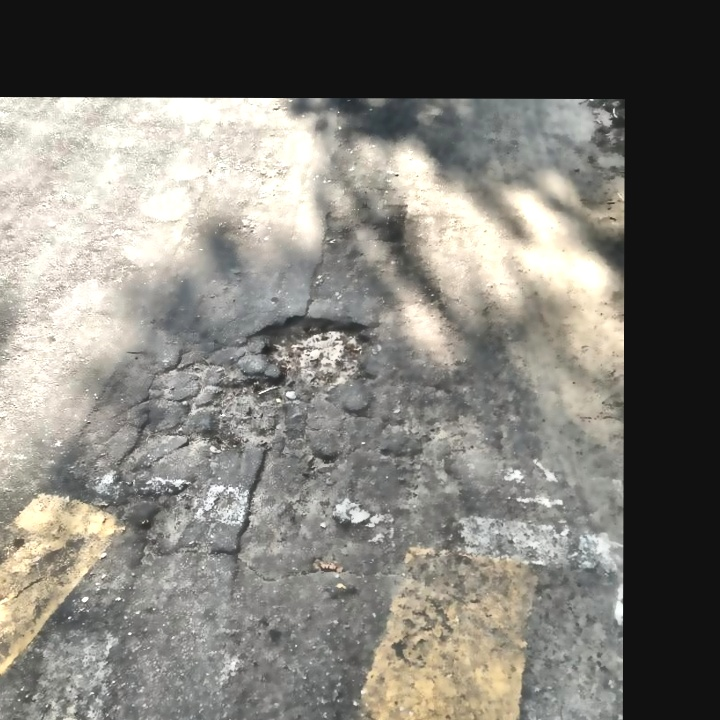pothole: (246, 313, 384, 397), (206, 373, 297, 449), (138, 487, 200, 561)
